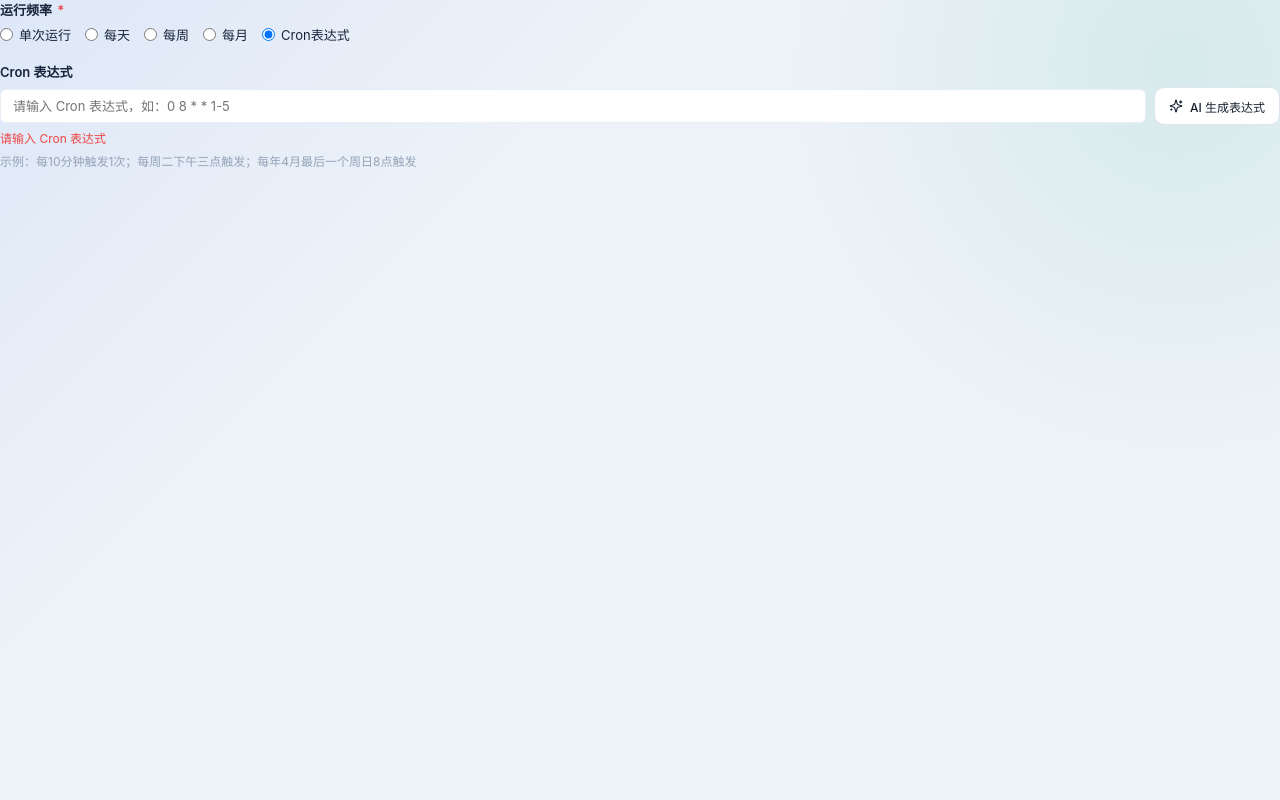
ScheduleForm - Cron 模式与 AI Modal › 点击 AI 生成表达式按钮打开 Modal
Step 1. Click the button "AI 生成表达式" → coordinates (1217, 106), box [1154, 87, 1279, 125]
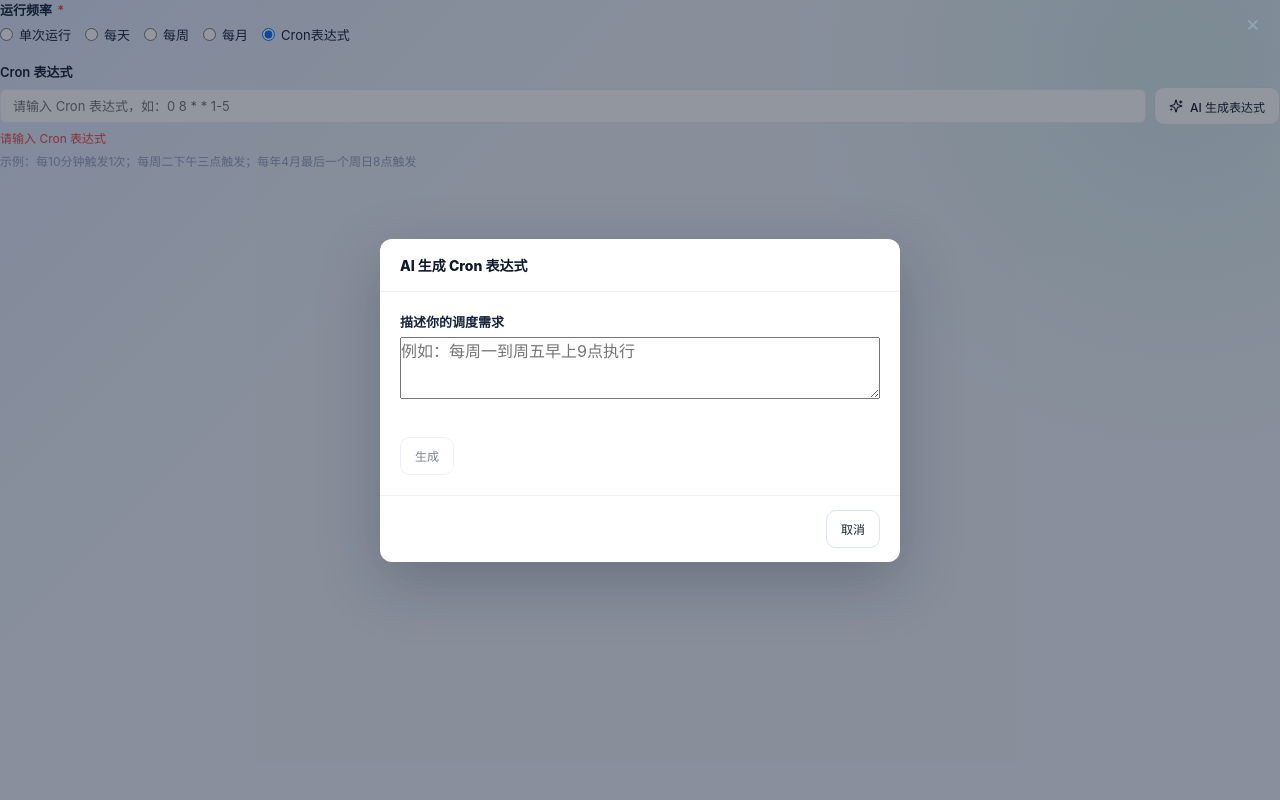
Expected: the heading "AI 生成 Cron 表达式" is shown, [400, 254, 527, 274]
Expected: the text "描述你的调度需求" is shown, [400, 314, 504, 330]
